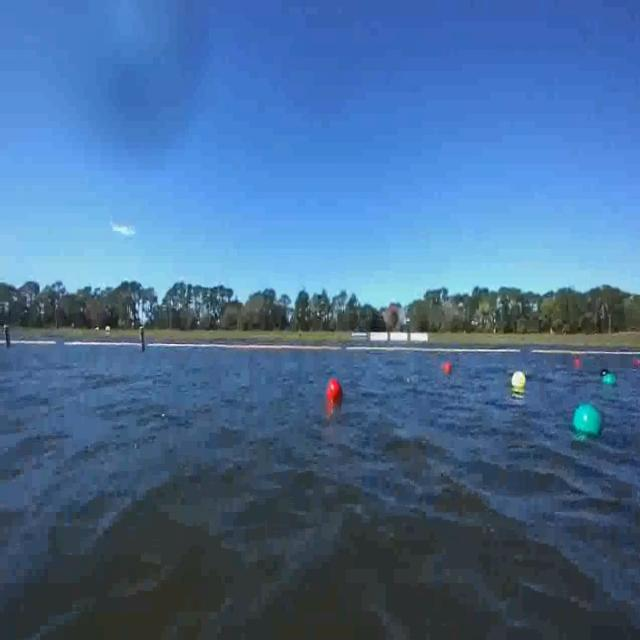green-buoy: (571, 405, 602, 437), (602, 376, 616, 388)
red-buoy: (327, 379, 341, 402), (439, 361, 452, 373), (574, 358, 580, 367), (633, 359, 640, 366)
yellow-buoy: (509, 371, 525, 388)
